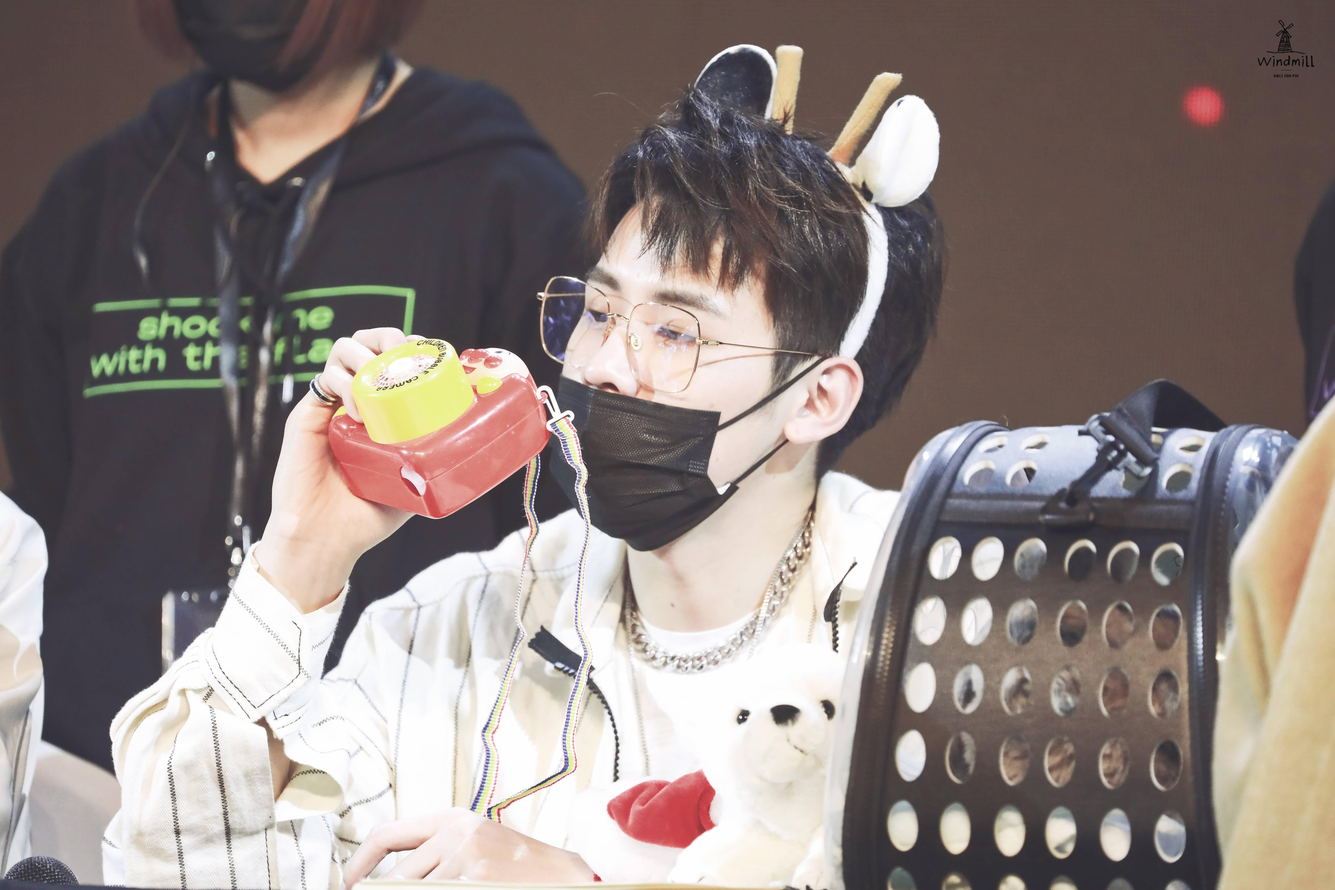WRONG: (555, 257, 764, 554)
